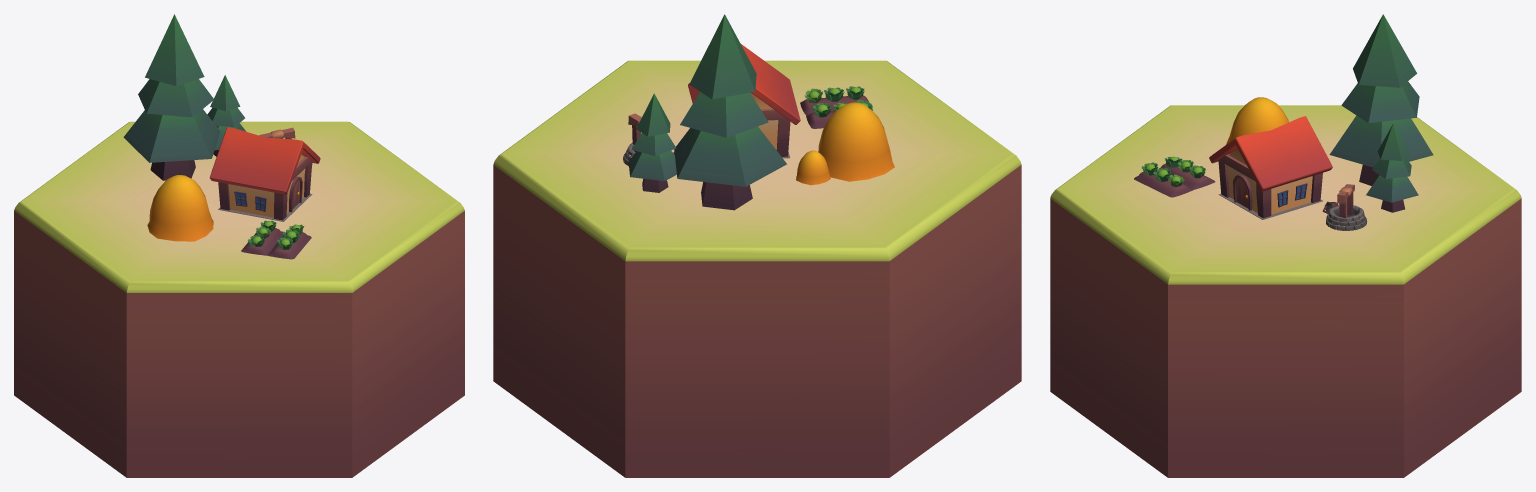
The model's file is house.fbx.
The picture shows the model from 3 angles, left to right: view 1: azimuth 30°, elevation 25°; view 2: azimuth 150°, elevation 25°; view 3: azimuth 270°, elevation 25°; orthographic projection. The views are drawn at different scales.
Parts seen in each view (by area): view 1: hexagon_grass5, Tree_Pine.048, House_Red.002, Hay_Pile.010, Farm_Cabbage.016, Tree_Pine.047; view 2: hexagon_grass5, Tree_Pine.048, Hay_Pile.010, House_Red.002, Tree_Pine.047, Farm_Cabbage.016, Hay_Pile.011; view 3: hexagon_grass5, House_Red.002, Tree_Pine.048, Tree_Pine.047, Farm_Cabbage.016, Hay_Pile.010, Well.002.
Part boxes in pixels (x1=…): hexagon_grass5: x1=14, y1=121, x2=464, y2=477; Tree_Pine.048: x1=123, y1=14, x2=220, y2=180; House_Red.002: x1=209, y1=127, x2=320, y2=221; Hay_Pile.010: x1=147, y1=175, x2=213, y2=241; Farm_Cabbage.016: x1=241, y1=220, x2=311, y2=259; Tree_Pine.047: x1=207, y1=75, x2=246, y2=156; hexagon_grass5: x1=493, y1=60, x2=1021, y2=477; Tree_Pine.048: x1=674, y1=14, x2=786, y2=210; Hay_Pile.010: x1=818, y1=102, x2=894, y2=181; House_Red.002: x1=688, y1=44, x2=800, y2=158; Tree_Pine.047: x1=628, y1=93, x2=676, y2=192; Farm_Cabbage.016: x1=800, y1=86, x2=872, y2=128; Hay_Pile.011: x1=796, y1=150, x2=830, y2=185; hexagon_grass5: x1=1050, y1=105, x2=1521, y2=477; House_Red.002: x1=1209, y1=116, x2=1332, y2=219; Tree_Pine.048: x1=1329, y1=14, x2=1433, y2=185; Tree_Pine.047: x1=1366, y1=124, x2=1418, y2=212; Farm_Cabbage.016: x1=1134, y1=156, x2=1215, y2=197; Hay_Pile.010: x1=1226, y1=97, x2=1288, y2=144; Well.002: x1=1322, y1=184, x2=1367, y2=230.
Size of the model in its own units: 366 by 364 by 423.
Materials: 2 (2 with a texture image).
